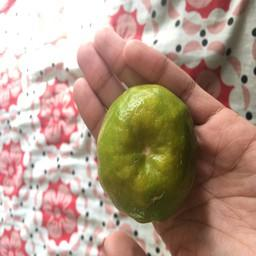Good_orange: (94, 86, 196, 224)
